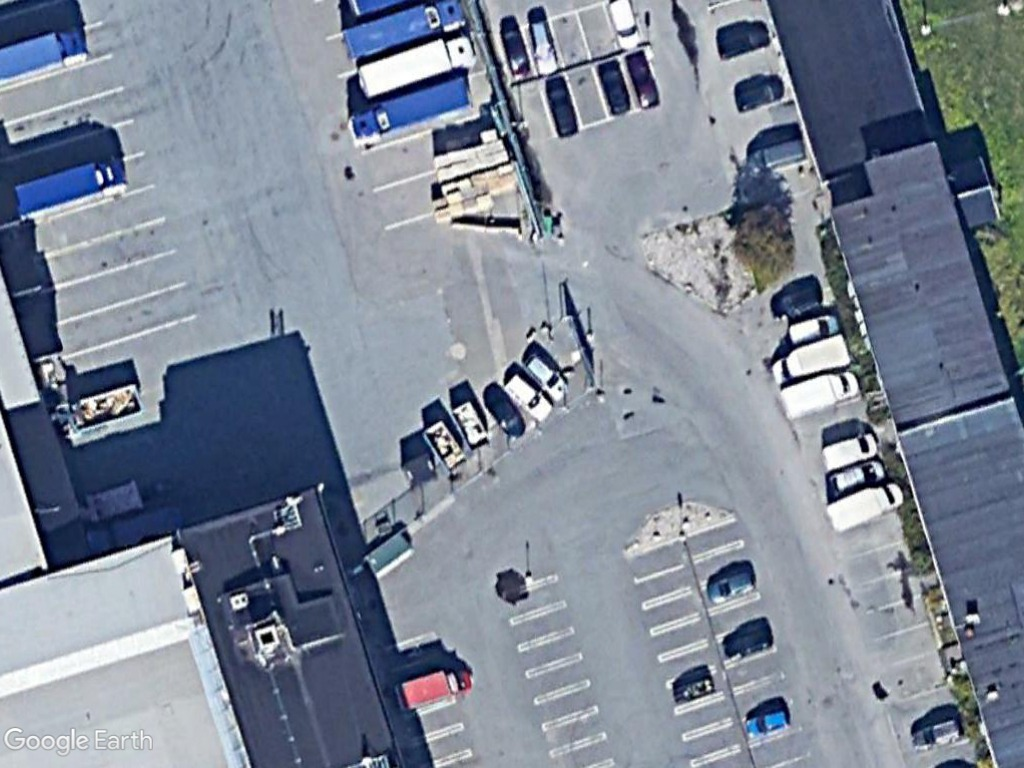car: (497, 365, 560, 425), (520, 346, 573, 405), (480, 384, 532, 444), (907, 712, 973, 756), (702, 565, 761, 608), (738, 703, 797, 743)
truck: (344, 70, 480, 154), (7, 146, 133, 223), (352, 28, 484, 98), (335, 0, 476, 64), (394, 660, 473, 713)
van: (817, 475, 912, 541), (765, 326, 861, 389), (767, 359, 863, 421), (738, 136, 813, 179), (817, 426, 882, 475)
